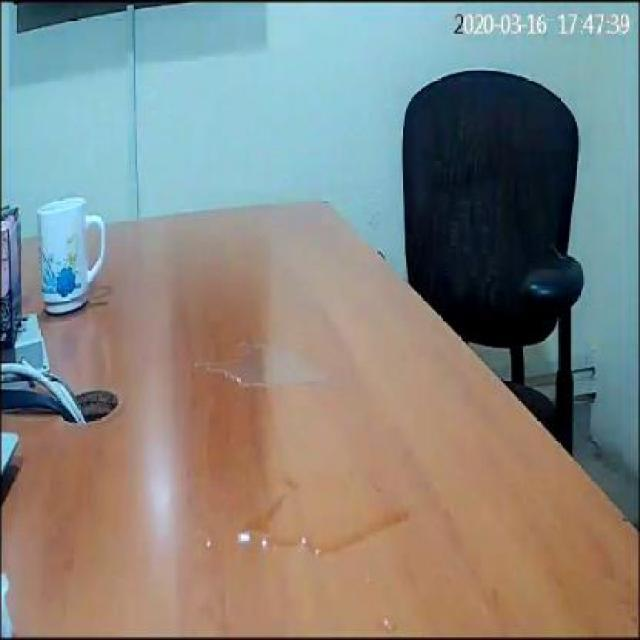spill: (239, 477, 407, 555), (201, 341, 325, 394)
